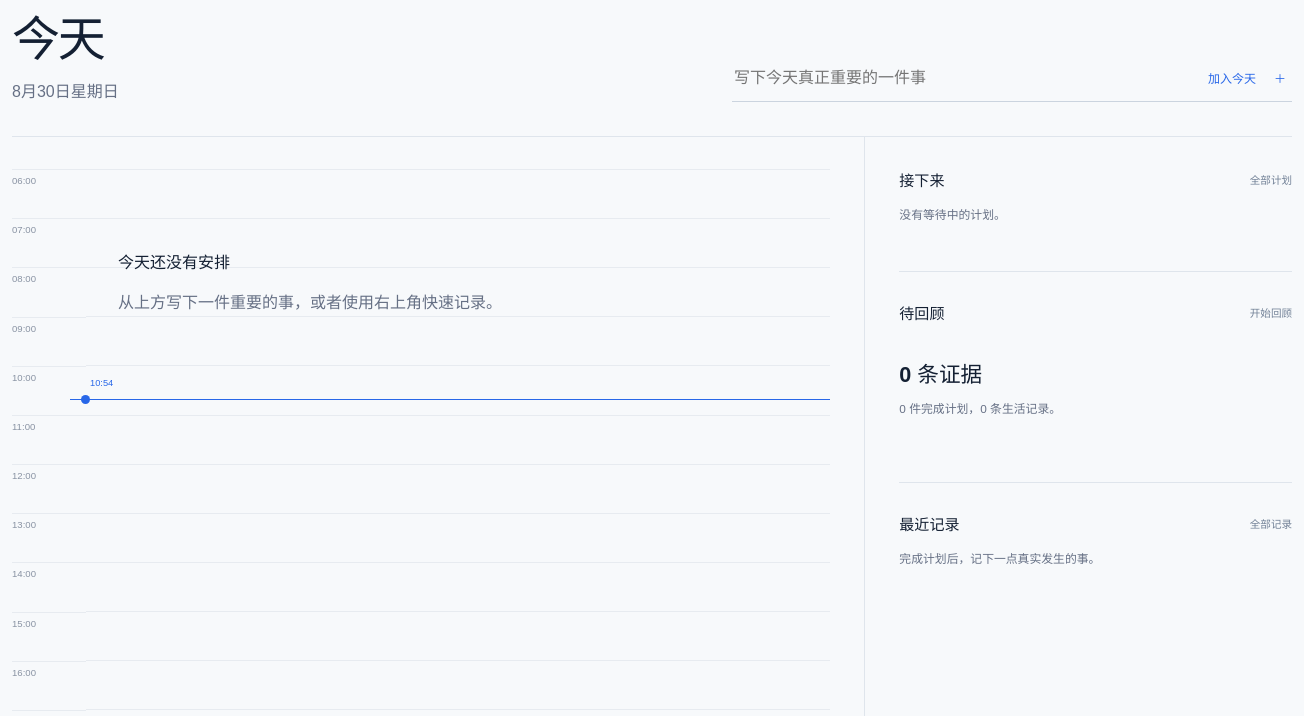
Test case: PrivateHomePage › renders a task-first day canvas and creates the next important plan
Check: the heading "今天" is shown, box left=12, top=0, right=119, bottom=70
Check: the list item "06:00" is shown, box left=12, top=169, right=86, bottom=218
Type "完成日光工作台验收" into the field named "今天要推进什么" at (967, 78), box left=732, top=54, right=1202, bottom=101
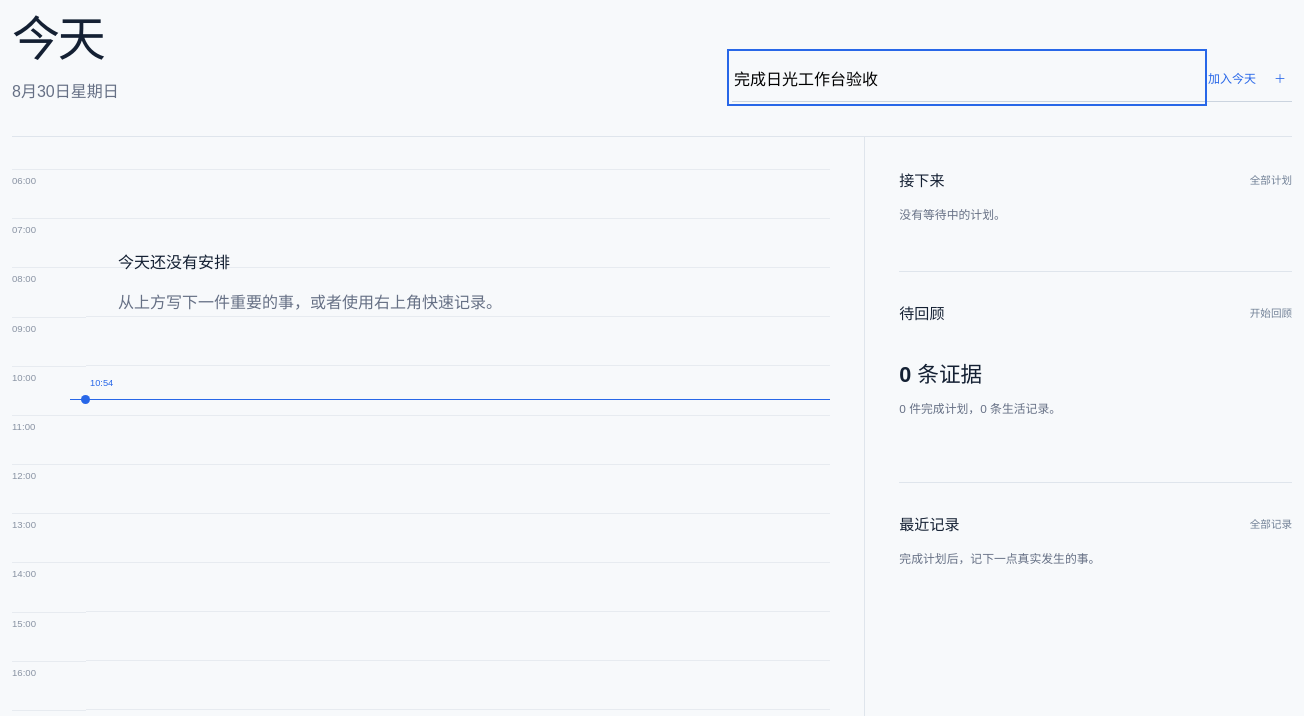
Click the button "加入今天 ＋" at (1247, 78), box left=1202, top=54, right=1292, bottom=101
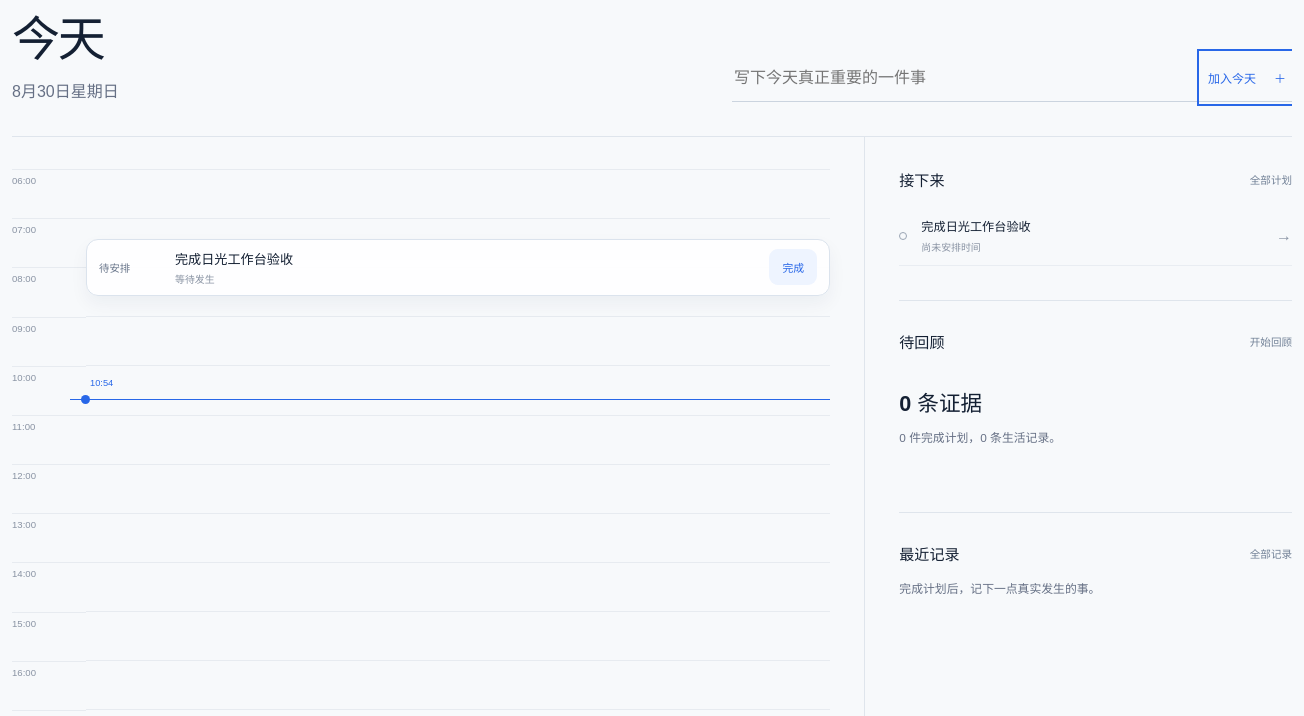
Check: the text "完成日光工作台验收" next to "待安排" is shown, box left=175, top=252, right=293, bottom=267
